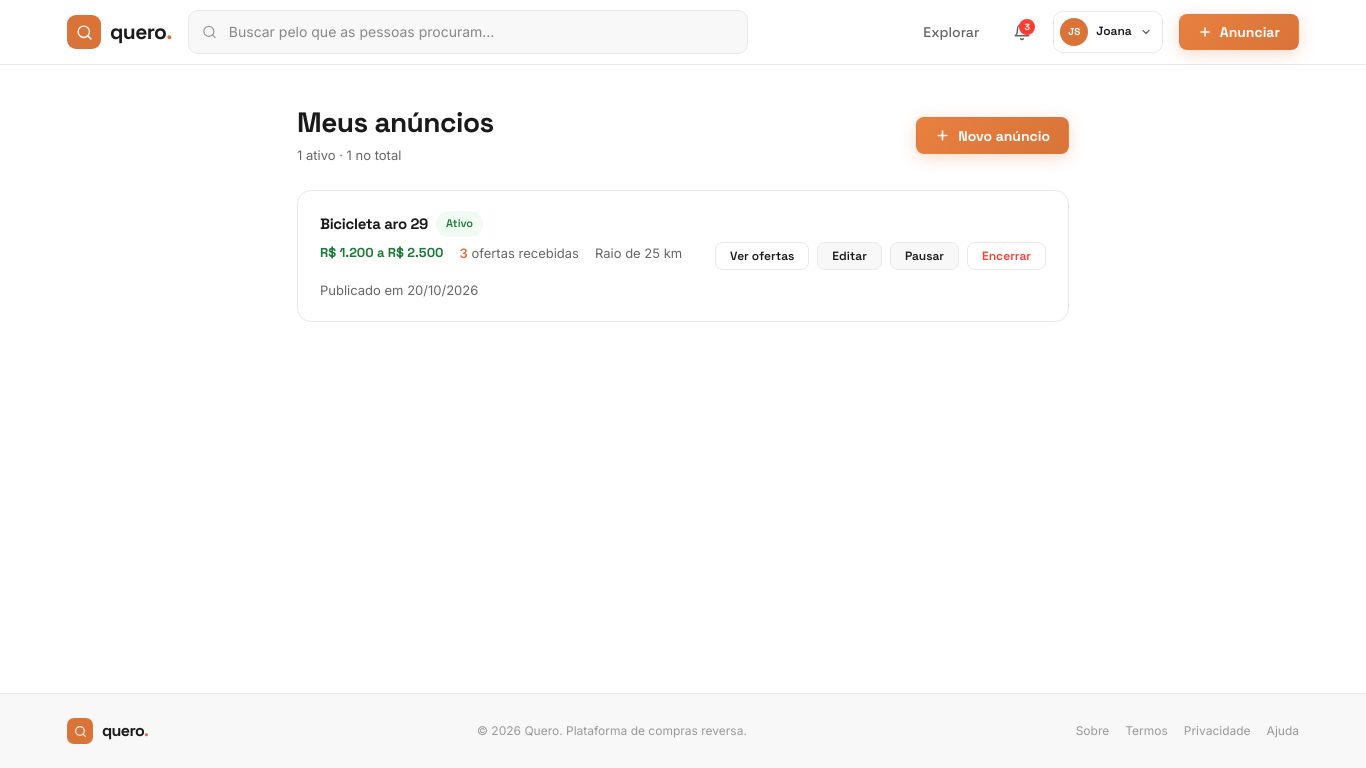
meus anúncios › pausa pelo endpoint de status e recarrega a lista
What coordinates should you click on to do the following:
click the button "Pausar"
I would click on:
 (924, 256)
Its box is [890,242,959,270].
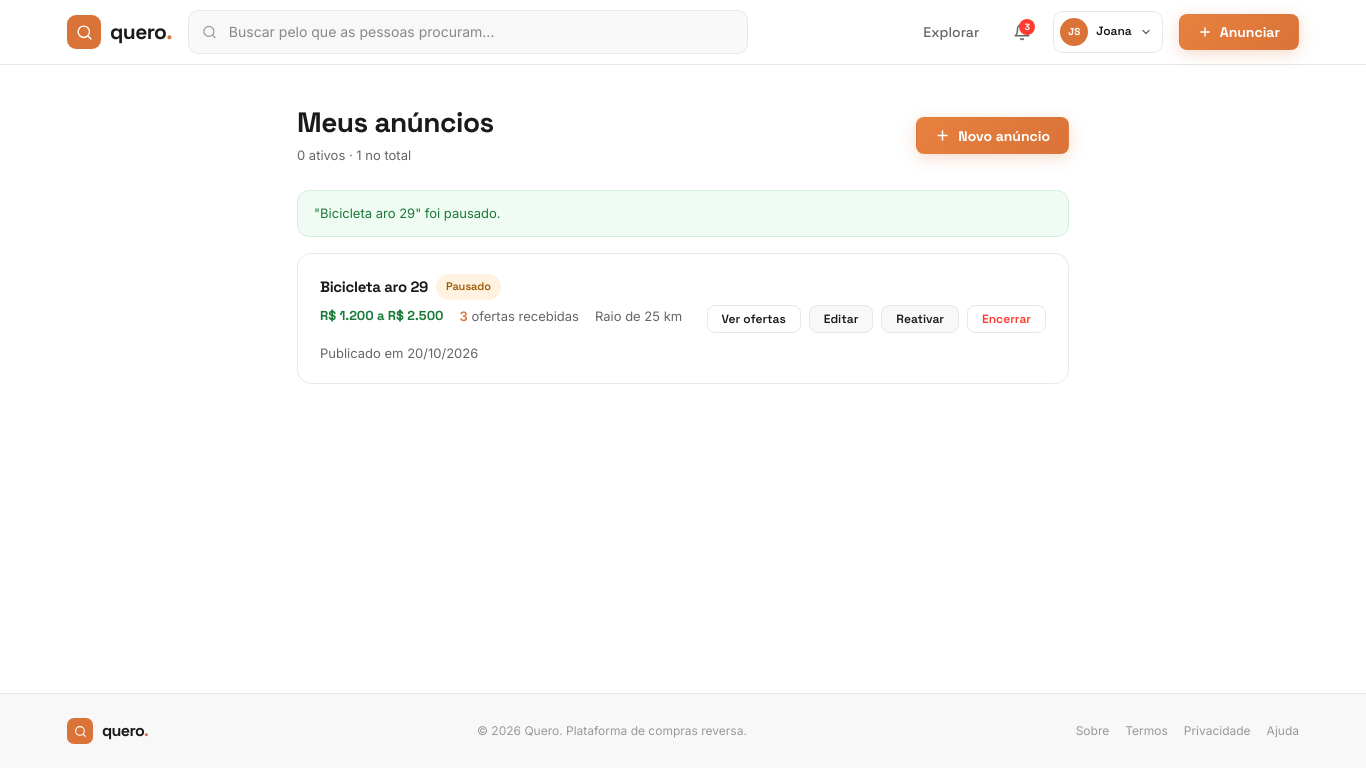
Expected: the text "\"Bicicleta aro 29\" foi pausado." is shown, [297,190,1069,237]
Expected: the button "Reativar" is shown, [881,305,959,333]
